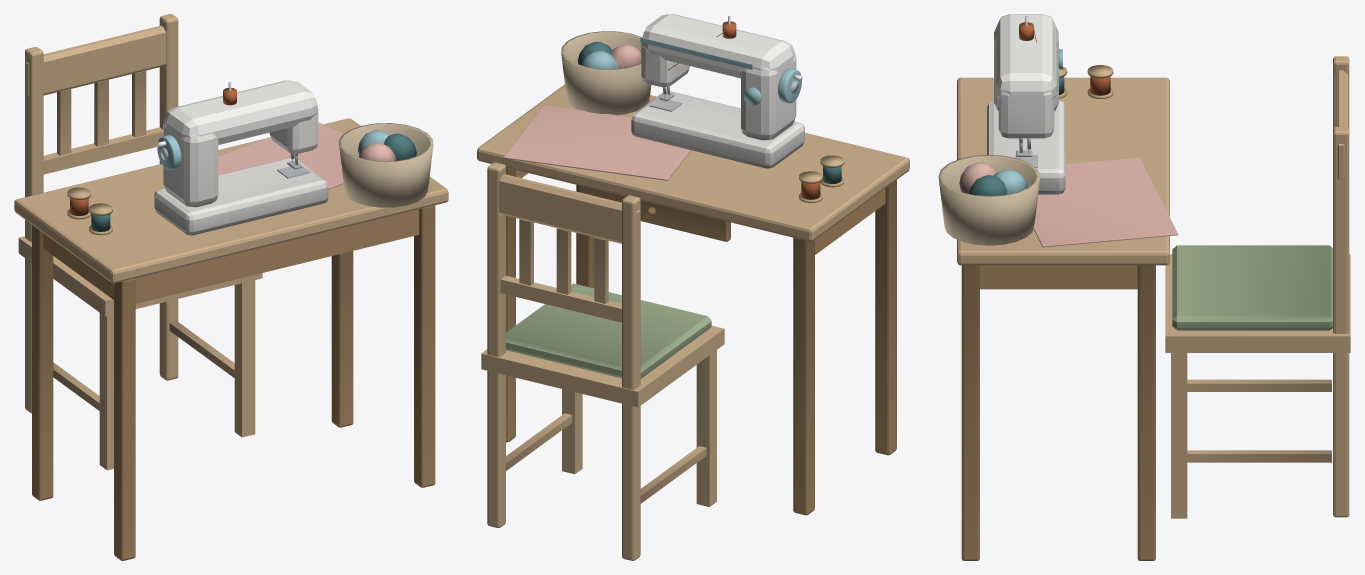
The model's file is sewingTable.glb.
3 renders of one model, left to right at view 1: azimuth 30°, elevation 25°; view 2: azimuth 150°, elevation 25°; view 3: azimuth 270°, elevation 25°, orthographic. The views are drawn at different scales.
Parts seen in each view (by area): view 1: body, handwheel; view 2: body, handwheel; view 3: body.
Part boxes in pixels (box(x1,y1,x2,y2)): body: box(14, 14, 448, 560); handwheel: box(157, 135, 181, 169); body: box(477, 14, 909, 560); handwheel: box(778, 68, 802, 103); body: box(938, 14, 1350, 560).
Bounding box in the file's own units: 0.9 × 1.08 × 0.89.
